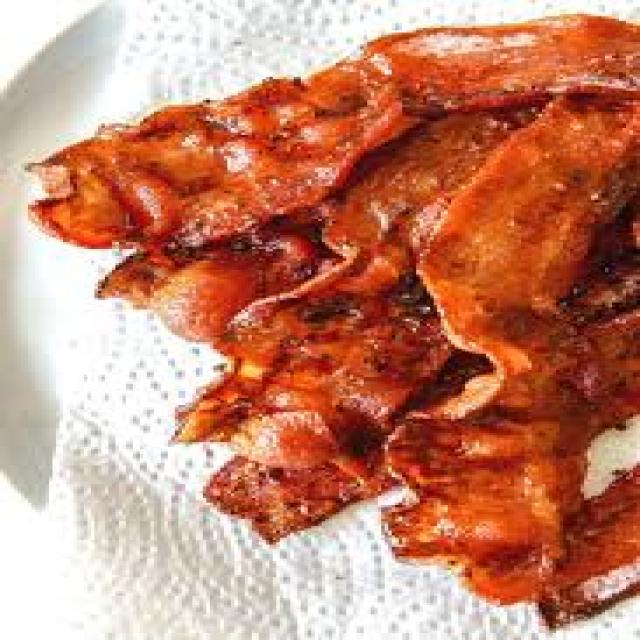Bacon: (177, 107, 532, 539), (32, 15, 637, 247), (387, 95, 635, 602)
